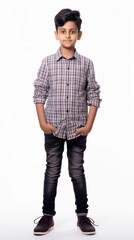Human: (25, 7, 110, 234)
